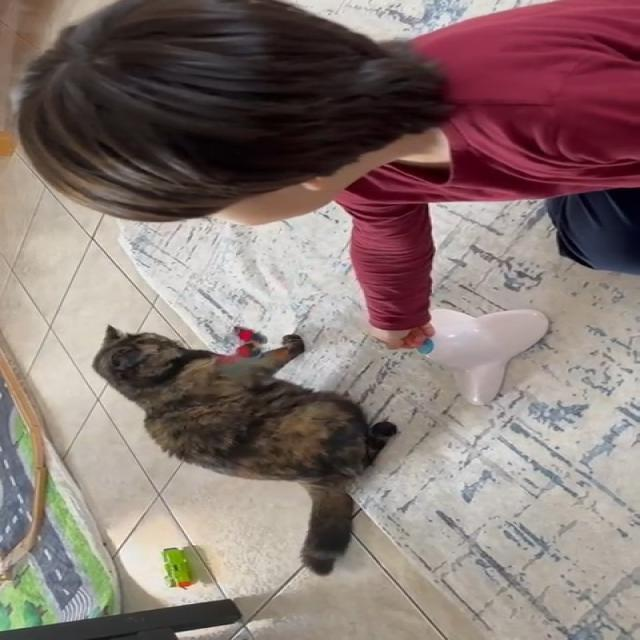authorized: (90, 324, 398, 576)
